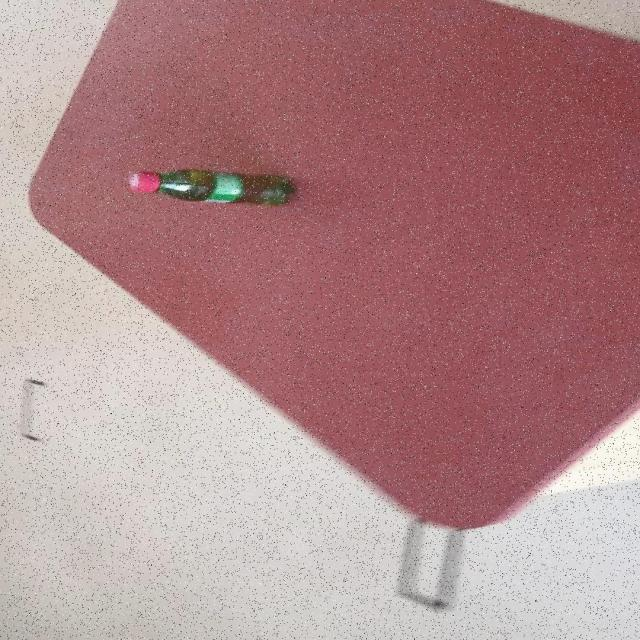Guarana: (128, 167, 299, 206)
